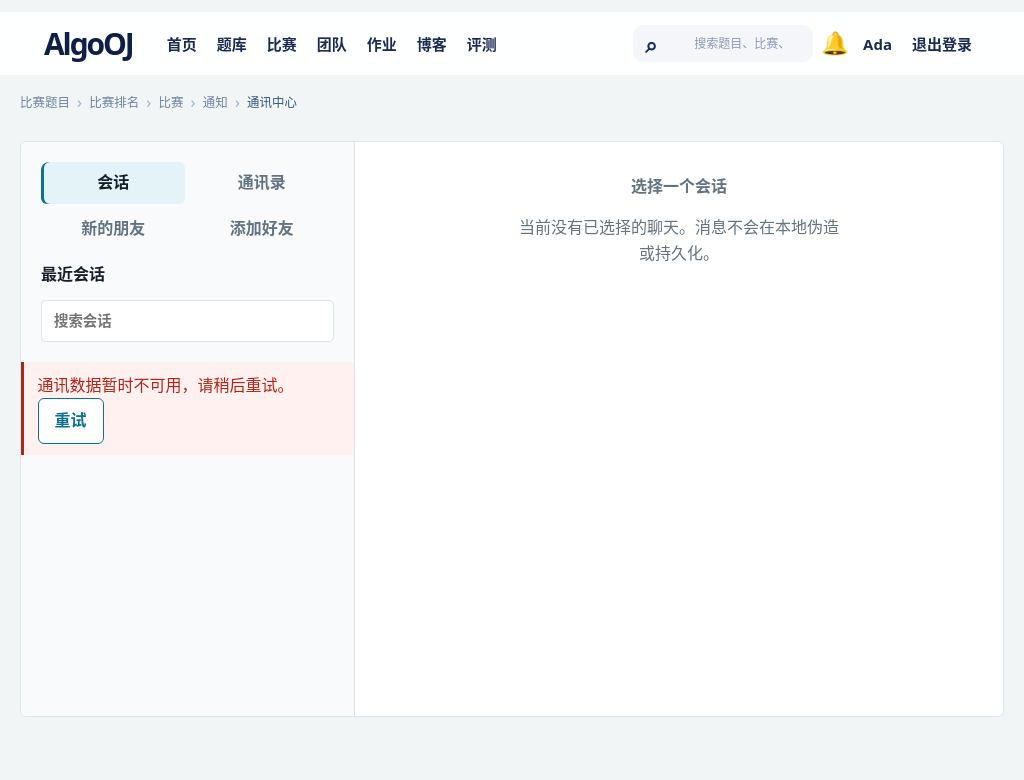
Scenario: Product Web Backend runtime regressions › retries a failed messaging bootstrap instead of presenting empty conversations
Expected: the message shows "通讯数据暂时不可用，请稍后重试。", [38,374,294,396]
Step 1. Click the button "重试" → (71, 421), box [38,398,104,444]
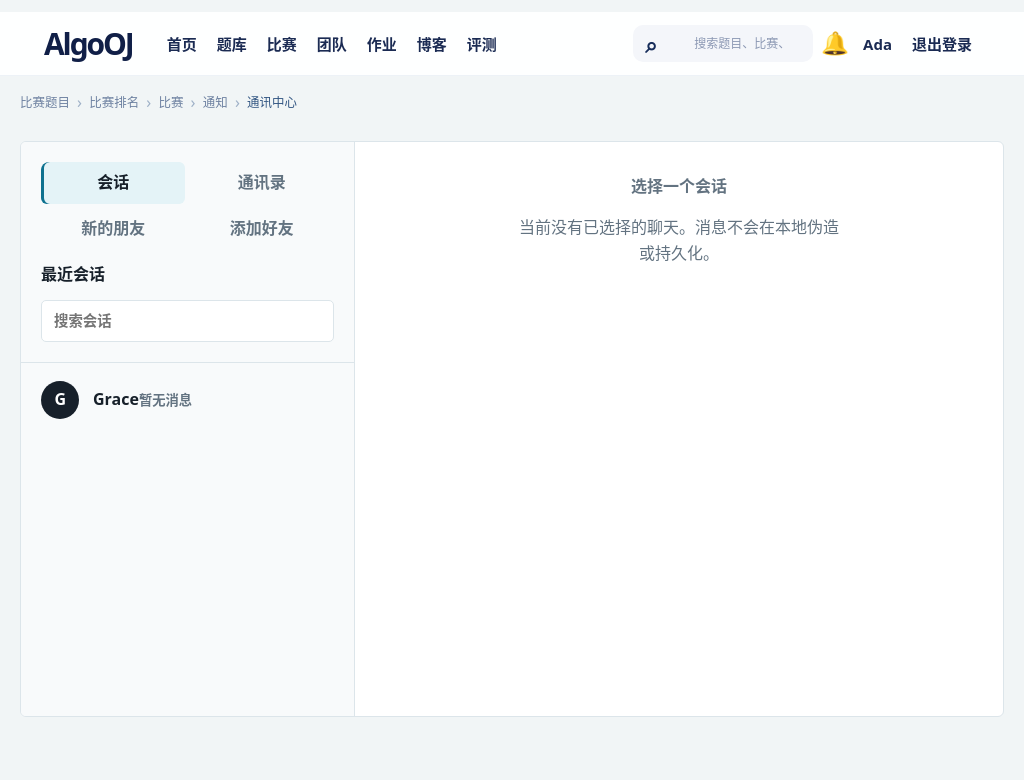
Expected: the button "Grace" is shown, [21,362,354,438]
